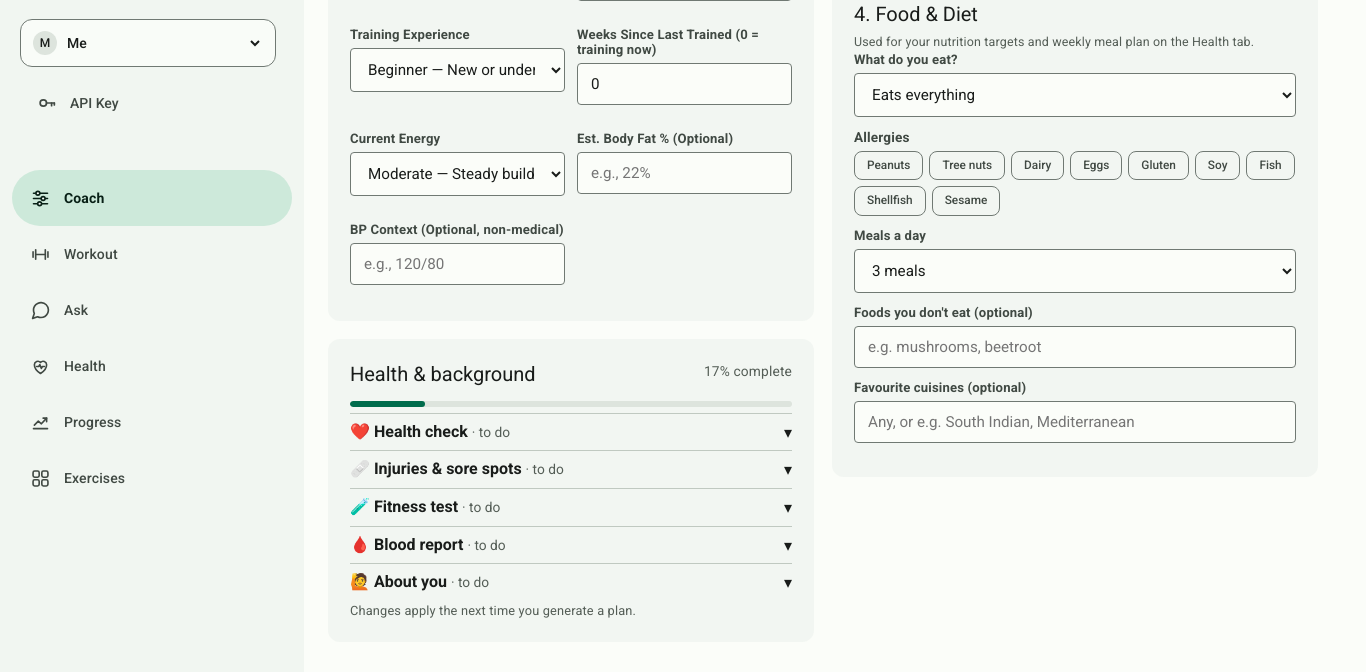
profile extras on the Coach tab › the blood report section points to the Health tab
(page scrolled)
What coordinates should you click on to do the following:
click the button "🩸 Blood report · to do ▾"
I would click on:
 (419, 544)
Its box is [350, 527, 792, 563].
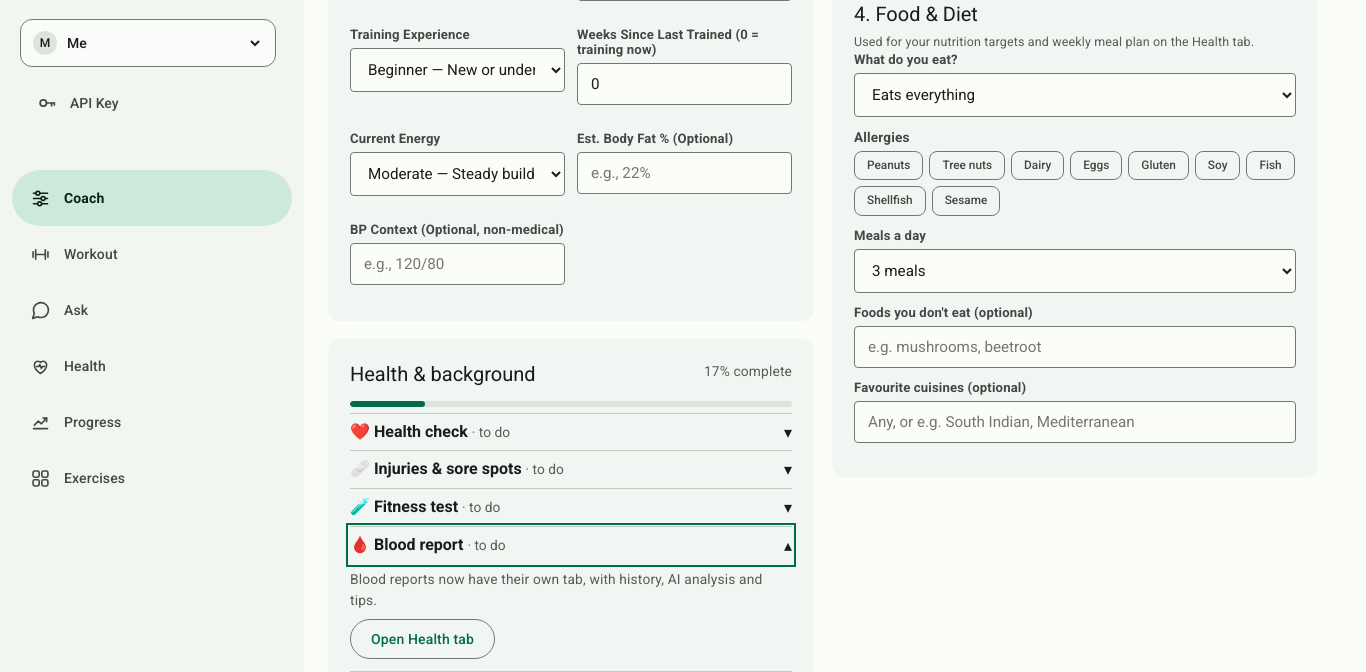
What coordinates should you click on to do the following:
click the button "Open Health tab"
I would click on:
 (422, 639)
Its box is [350, 619, 495, 659].
(page scrolled)
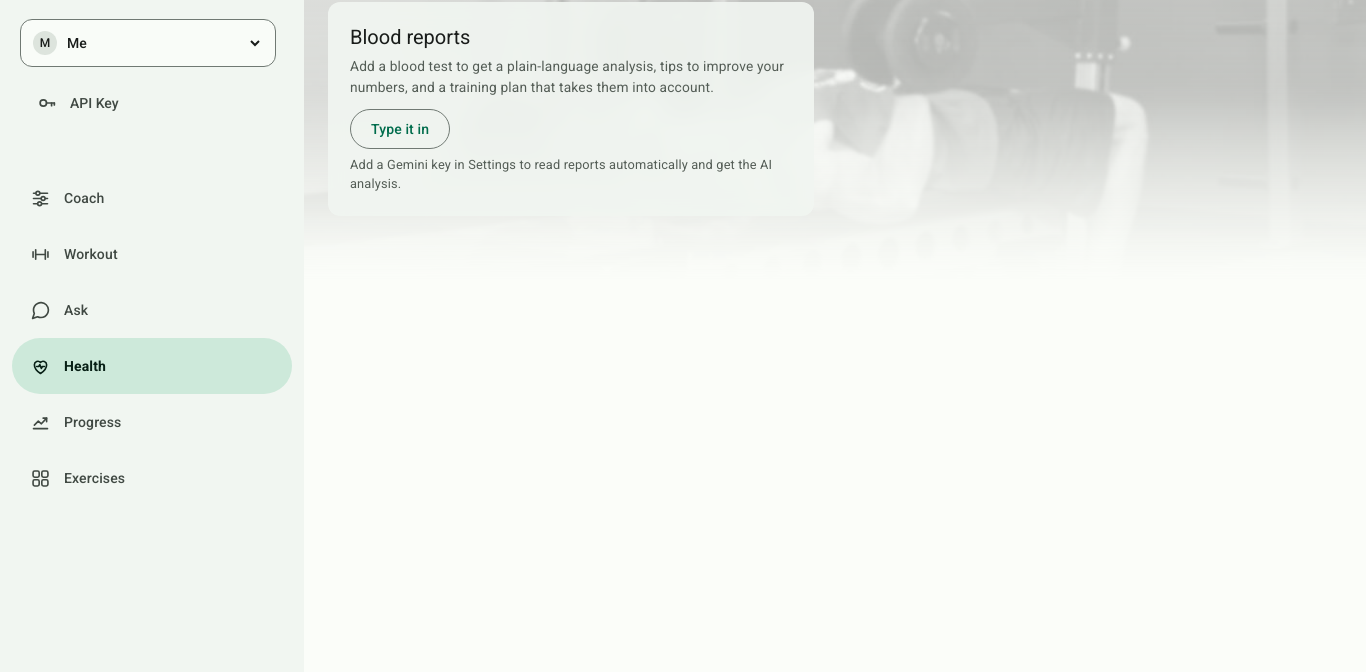
Now the heading "Blood reports" is shown, box [350, 25, 470, 49]
